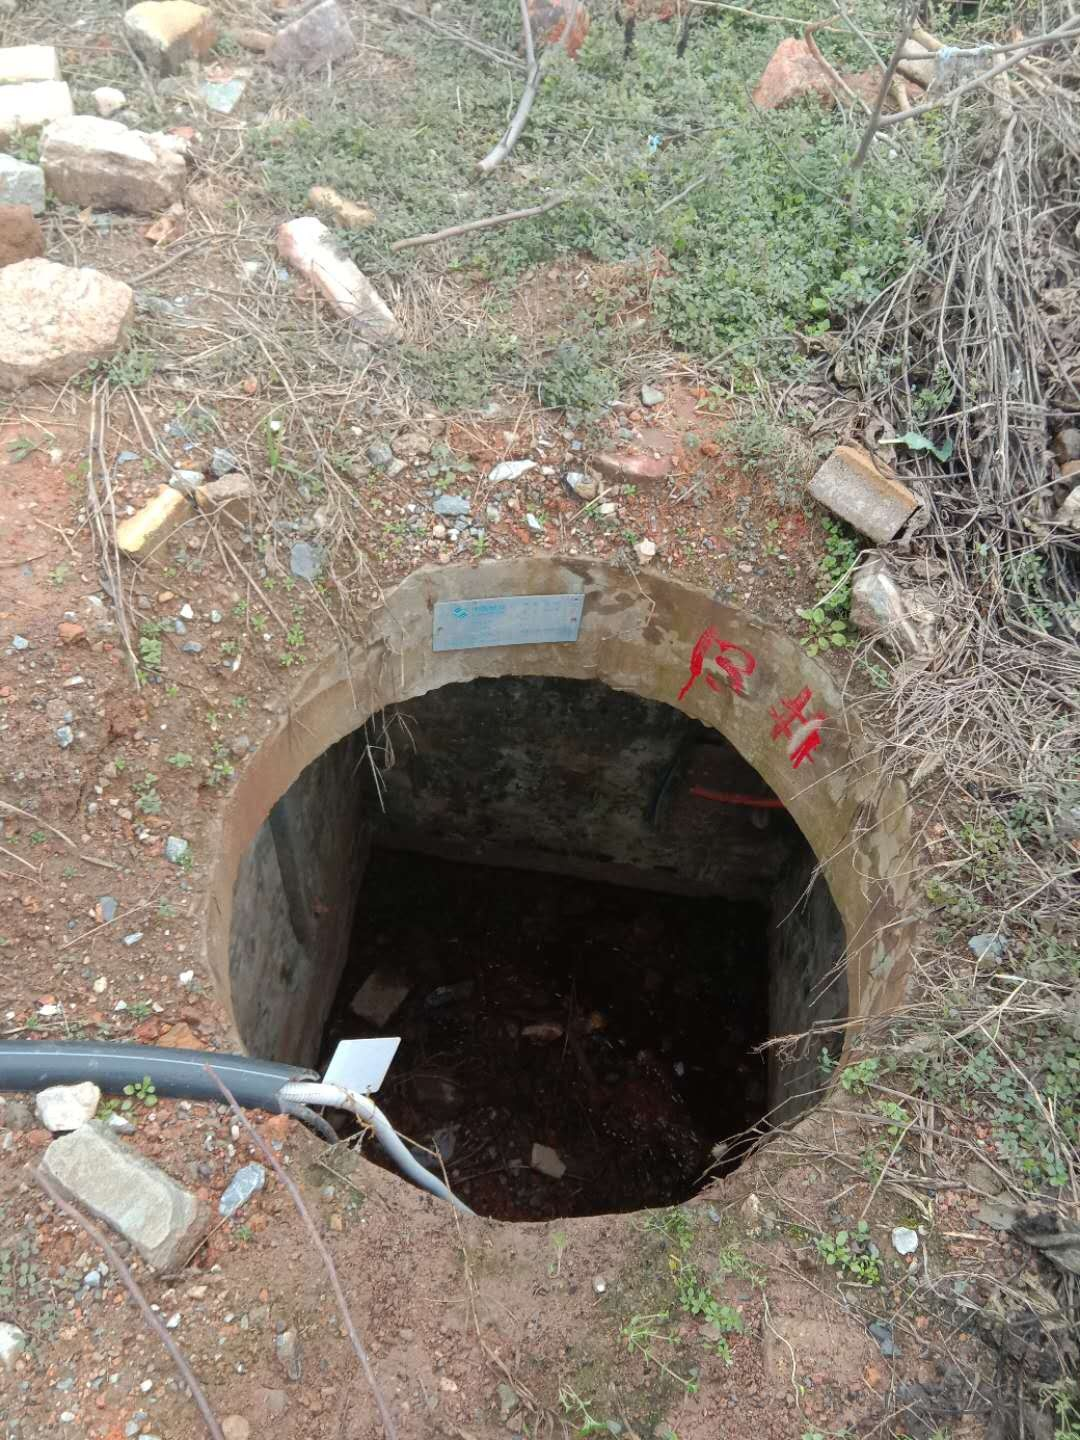lose: (213, 670, 857, 1225)
